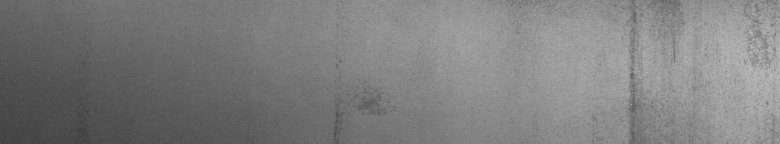ka: (624, 4, 676, 136)
